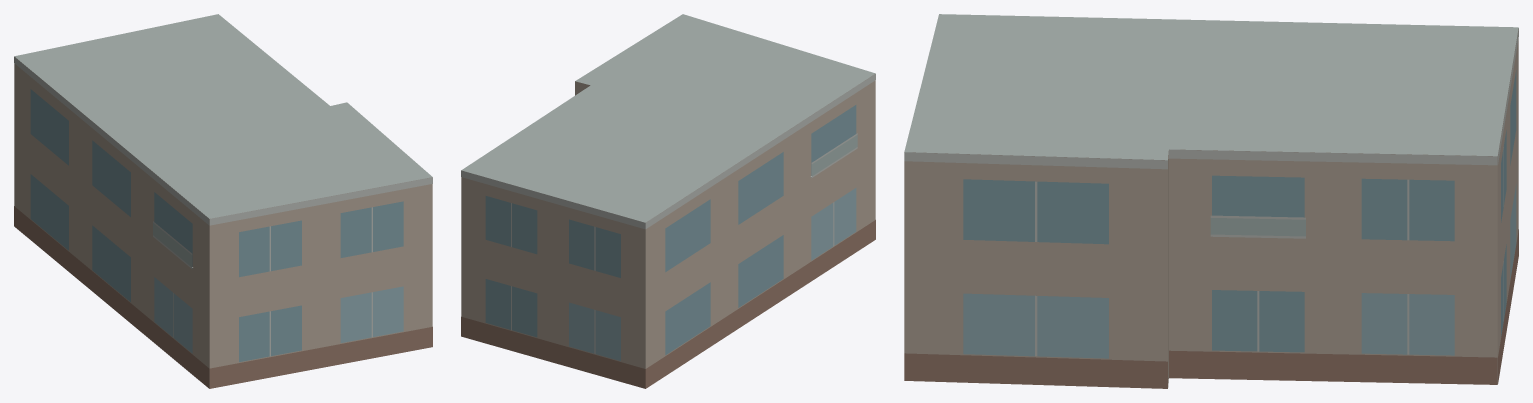
The model's file is survey-upis-32552669.glb.
3 views of the same model, side by side, from view 1: azimuth 30°, elevation 25°; view 2: azimuth 150°, elevation 25°; view 3: azimuth 270°, elevation 25° (orthographic). The views are drawn at different scales.
Parts seen in each view (by area): view 1: survey-upis-32552669.tmp; view 2: survey-upis-32552669.tmp; view 3: survey-upis-32552669.tmp.
Part boxes in pixels (x1,y1,x2,y2): survey-upis-32552669.tmp: (14, 14, 432, 388); survey-upis-32552669.tmp: (461, 14, 875, 388); survey-upis-32552669.tmp: (904, 14, 1518, 388).
Size of the model in its own units: 8.37 by 6.1 by 14.87.
